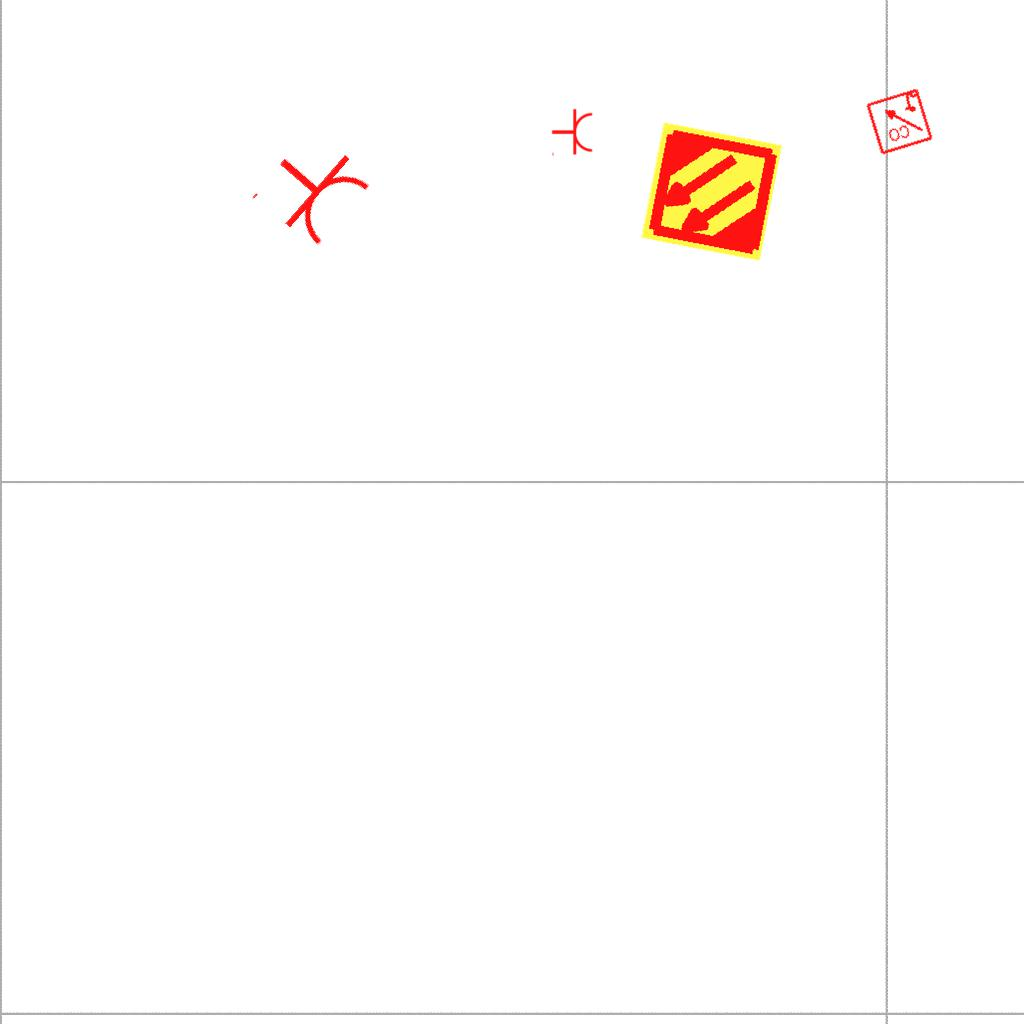ASR_Ansaugrauchmelder: (638, 118, 785, 265)
ROA_Rauchmelder_optisch_mit_Signalgeber_(Sockelsirene): (864, 86, 934, 156)
Schukosteckdose_einfach: (246, 123, 379, 257), (551, 108, 594, 158)
